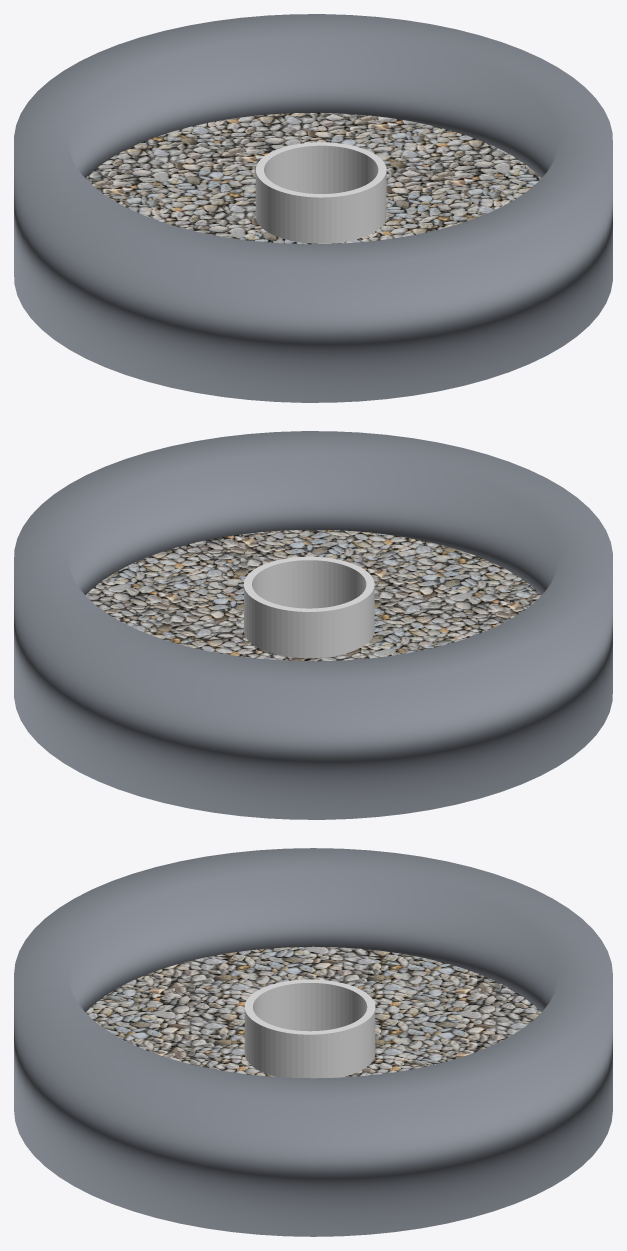
File: recharge_shaft_with_pit.glb
The picture shows the model from 3 angles, top to bottom: view 1: azimuth 30°, elevation 25°; view 2: azimuth 150°, elevation 25°; view 3: azimuth 270°, elevation 25°; orthographic projection.
Parts seen in each view (by area): view 1: Plane, Cylinder, inner; view 2: Plane, Cylinder, inner; view 3: Plane, Cylinder, inner.
Boxes of the visible parts, <box> form: Plane: <box>14,14,612,402</box>; Cylinder: <box>85,112,541,244</box>; inner: <box>255,142,386,243</box>; Plane: <box>14,431,612,819</box>; Cylinder: <box>85,529,541,661</box>; inner: <box>244,556,374,658</box>; Plane: <box>14,848,612,1236</box>; Cylinder: <box>85,946,541,1077</box>; inner: <box>244,979,375,1078</box>.
Bounding box in the file's own units: 0.7328 × 0.1831 × 0.7328.
Materials: 2 (1 with a texture image).
